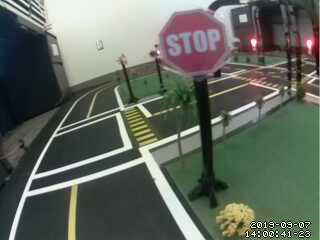Stop_Sign: (152, 7, 239, 81)
